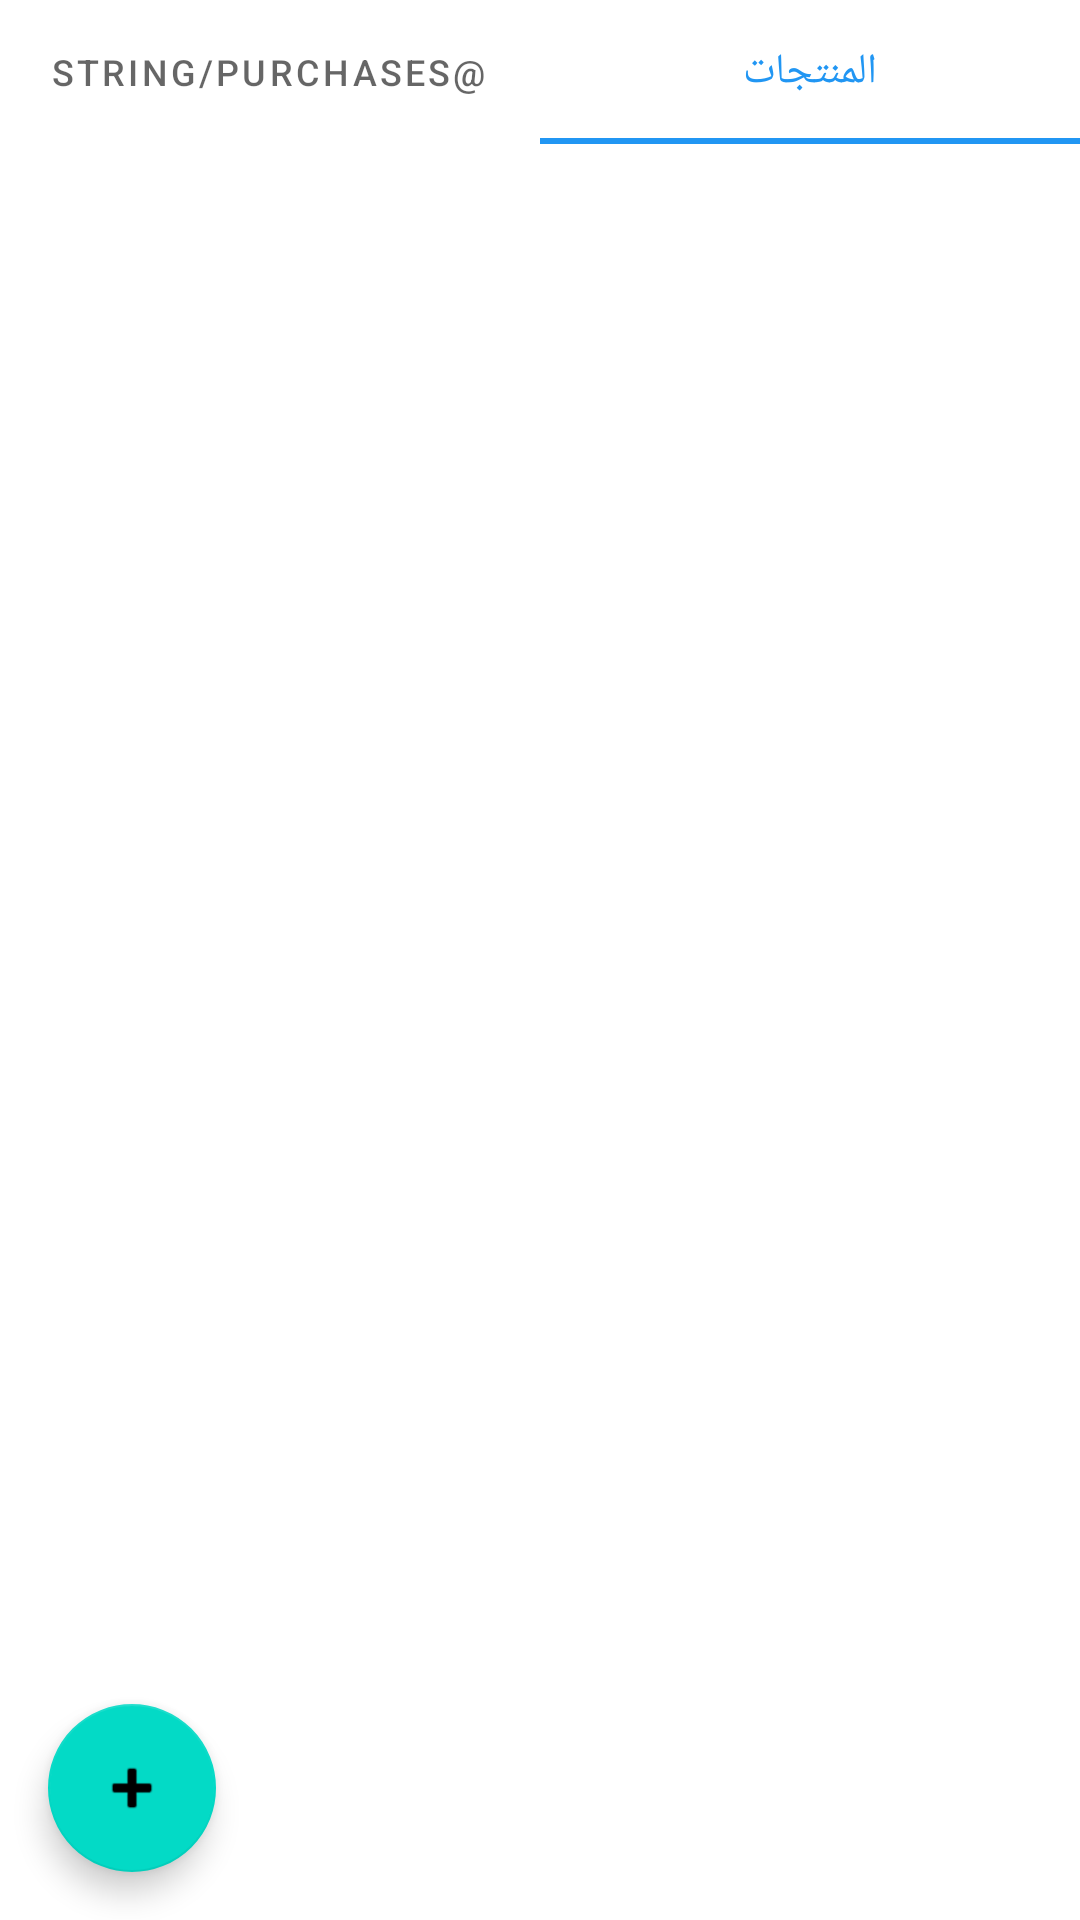

Icons on this 1080w x 1920h Android screen, each with its box as (x1,y1,x2,y2):
add: (48,1704,216,1872)
